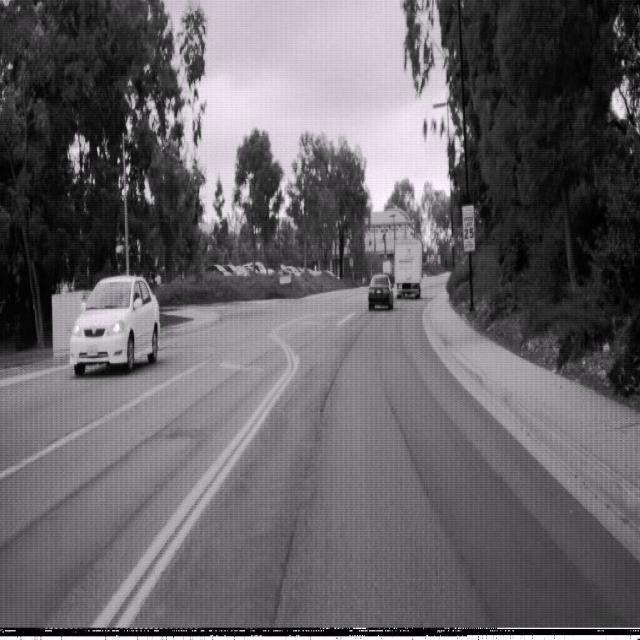speedLimit25: (462, 203, 476, 254)
